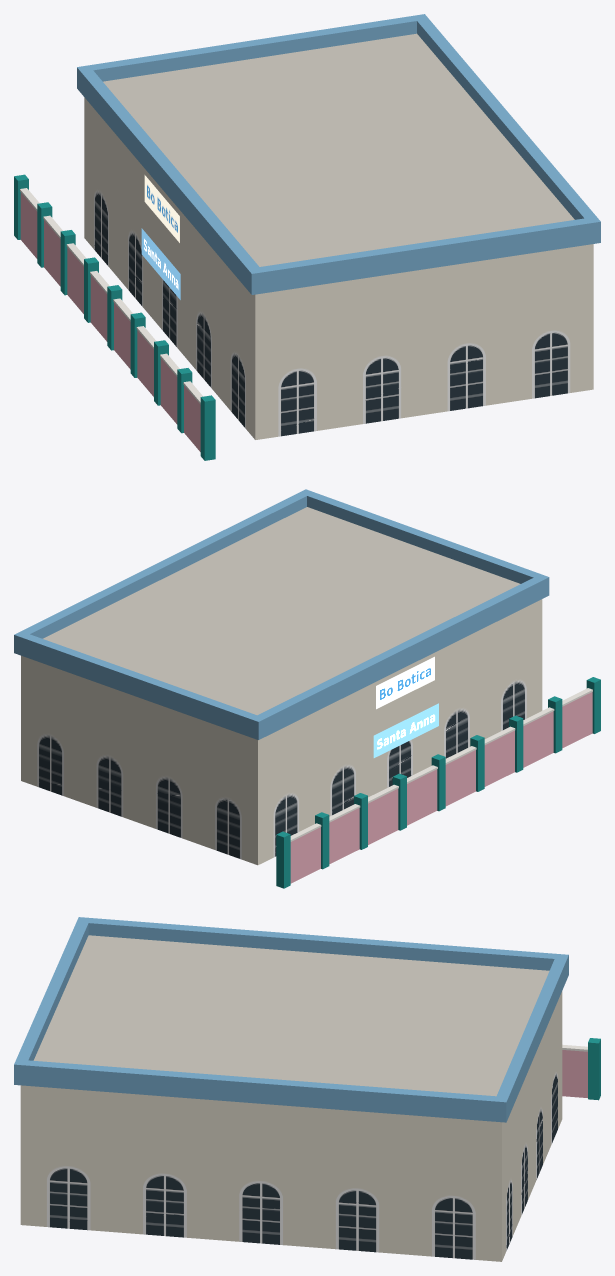
The model's file is bosantaanna.glb.
The picture shows the model from 3 angles, top to bottom: view 1: azimuth 30°, elevation 25°; view 2: azimuth 150°, elevation 25°; view 3: azimuth 270°, elevation 25°; orthographic projection. The views are drawn at different scales.
Visible parts, largest first — view 1: bosantaanna_lod0; view 2: bosantaanna_lod0; view 3: bosantaanna_lod0.
Boxes of the visible parts, left/top/right/bottom form: bosantaanna_lod0: left=14, top=14, right=600, bottom=460; bosantaanna_lod0: left=14, top=489, right=600, bottom=888; bosantaanna_lod0: left=14, top=917, right=600, bottom=1261.
Size of what is drawn, in the model's own units: 22.22 by 8 by 26.21.
8 materials, 2 textured.
